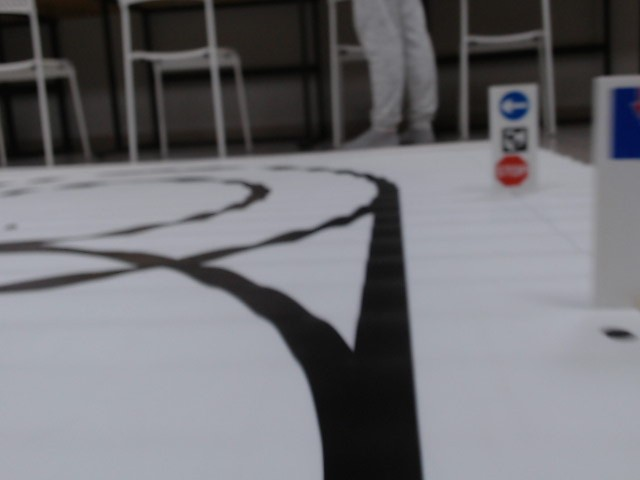Stop: (494, 155, 531, 184)
